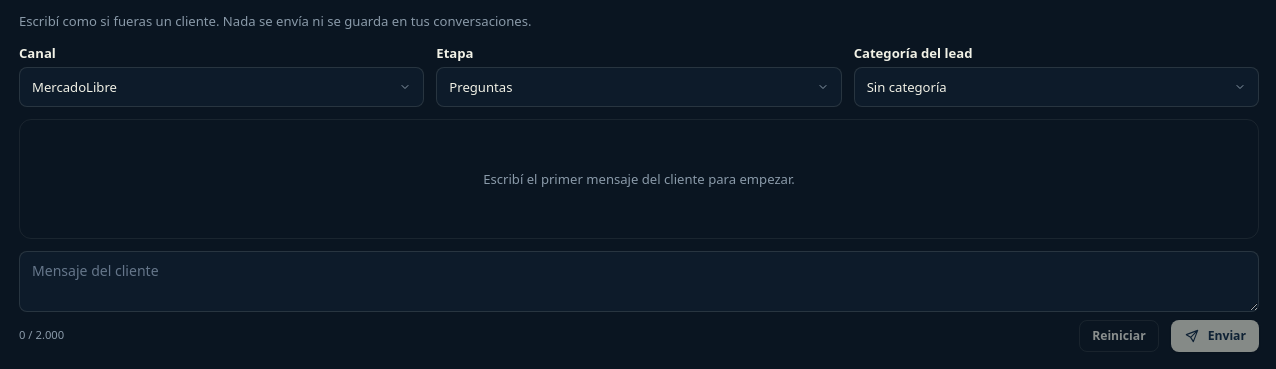
Playground › offers a comment trial only on a channel that replies to comments
expect the switch labelled "Probar como comentario" is not shown: met
Select "Instagram" in the dropdown labelled "Canal". click: x=222, y=87
box: x1=19 y1=67 x2=424 y2=107
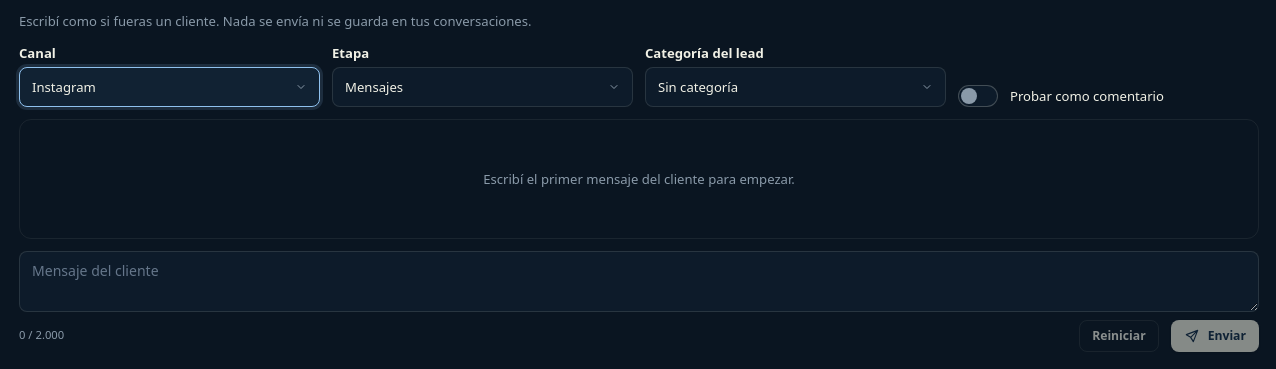
expect the switch labelled "Probar como comentario" is shown: met, box x1=958 y1=85 x2=1164 y2=107
Select "MercadoLibre" in the dropdown labelled "Canal". click: x=170, y=87
box: x1=19 y1=67 x2=320 y2=107
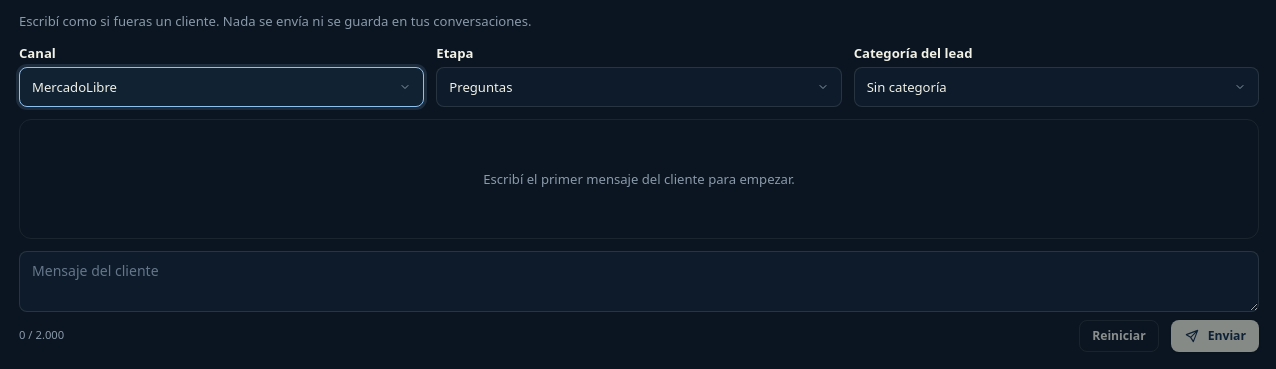
expect the text "Probar como comentario" is gone: met
